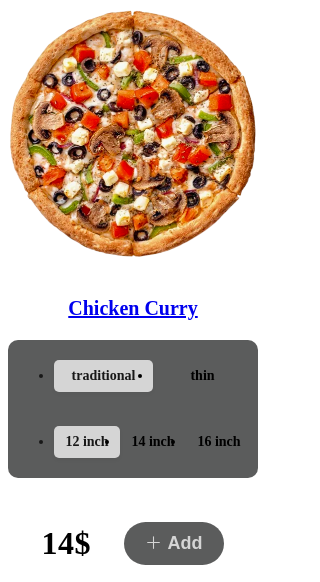
Test: ProductCard tests › ProductCard price changing › should click correct size
This screenshot has width=320, height=582.
Click the list item "16 inch" at (219,442), box [197,434,241,449]
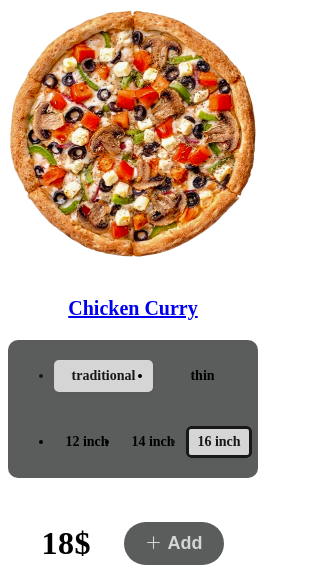
Result: the heading "14$" reads "18$" at [42,530,91,557]
